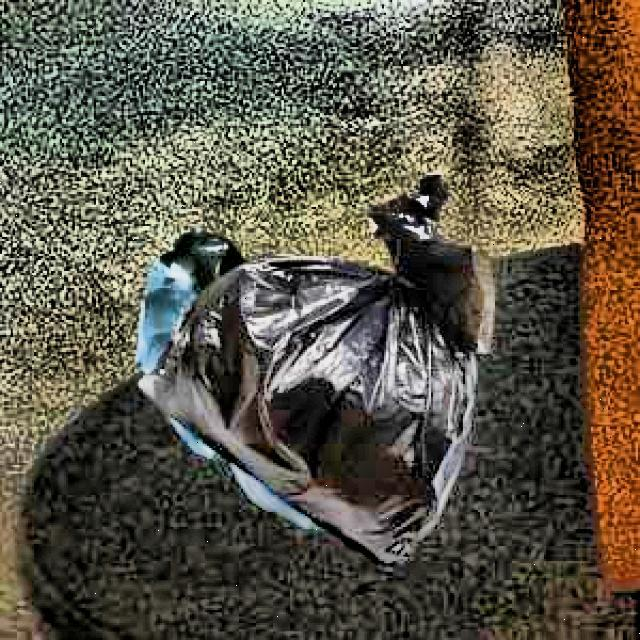Trashbag: (127, 173, 504, 575)
